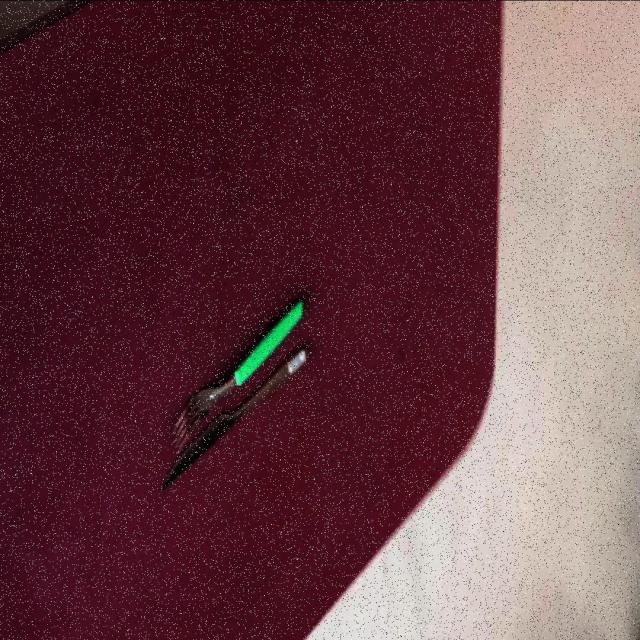Fork: (159, 343, 309, 491), (170, 295, 305, 452)
Knife: (159, 343, 309, 491), (170, 295, 305, 452)
